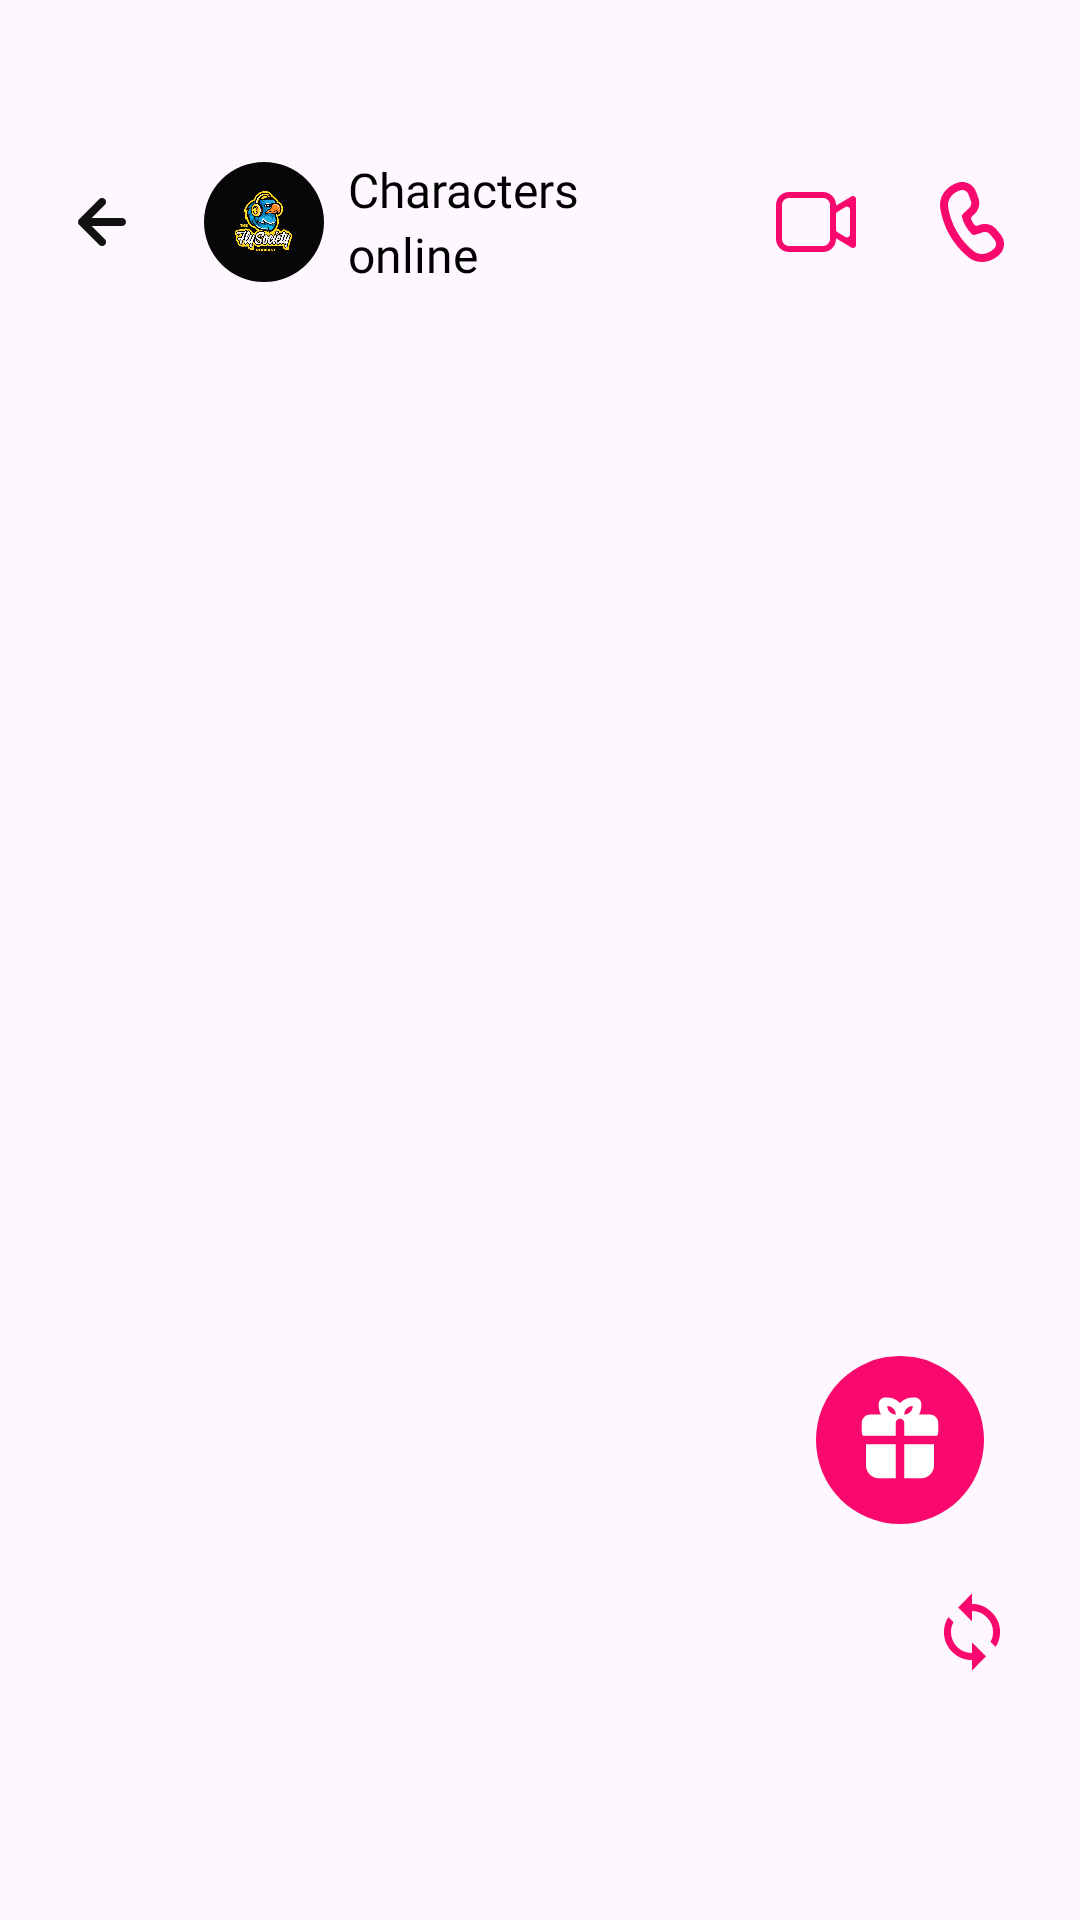

Named icons in this screenshot (1080px×1920px) and their bounding boxes, box(x1, y1, x2, y2):
back: box(78, 198, 126, 246)
gift: box(816, 1356, 984, 1524)
loop: box(944, 1593, 1000, 1671)
phone: box(940, 182, 1004, 262)
video: box(776, 192, 856, 252)
